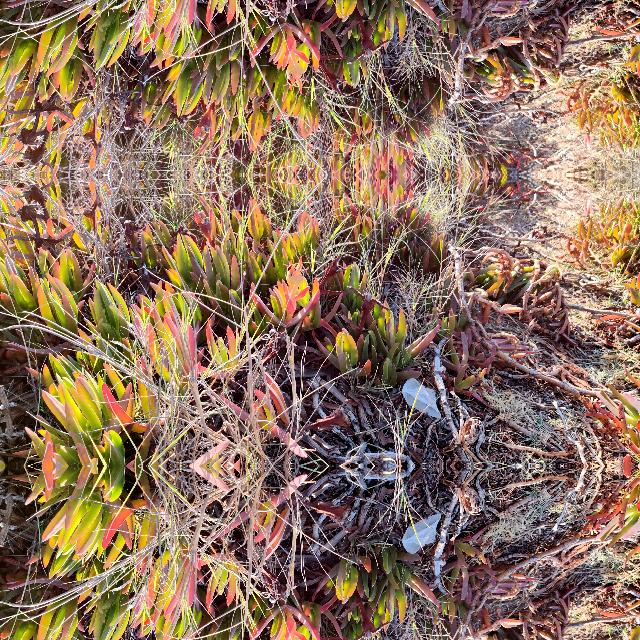Plastic: (399, 375, 446, 421), (399, 510, 446, 556)
